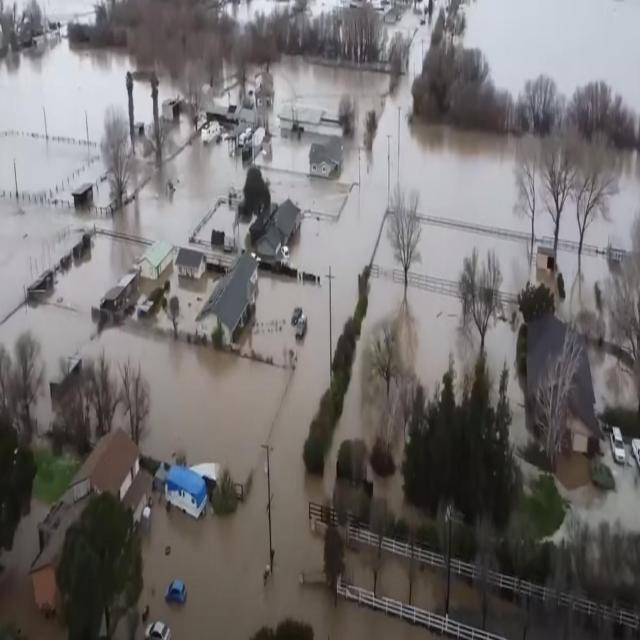flood: (0, 59, 537, 638), (465, 0, 640, 110), (0, 40, 126, 136), (408, 273, 480, 396), (411, 223, 531, 292), (0, 134, 103, 196), (586, 149, 640, 248), (487, 306, 526, 433), (388, 0, 444, 83), (541, 181, 580, 237), (37, 0, 99, 23), (376, 221, 400, 266), (16, 0, 26, 11)
house: (525, 312, 600, 463), (194, 251, 258, 347), (72, 430, 141, 498), (256, 199, 309, 270), (1, 0, 49, 60), (308, 135, 345, 181), (137, 238, 173, 280), (100, 272, 136, 310), (176, 247, 207, 281), (537, 244, 556, 274)
